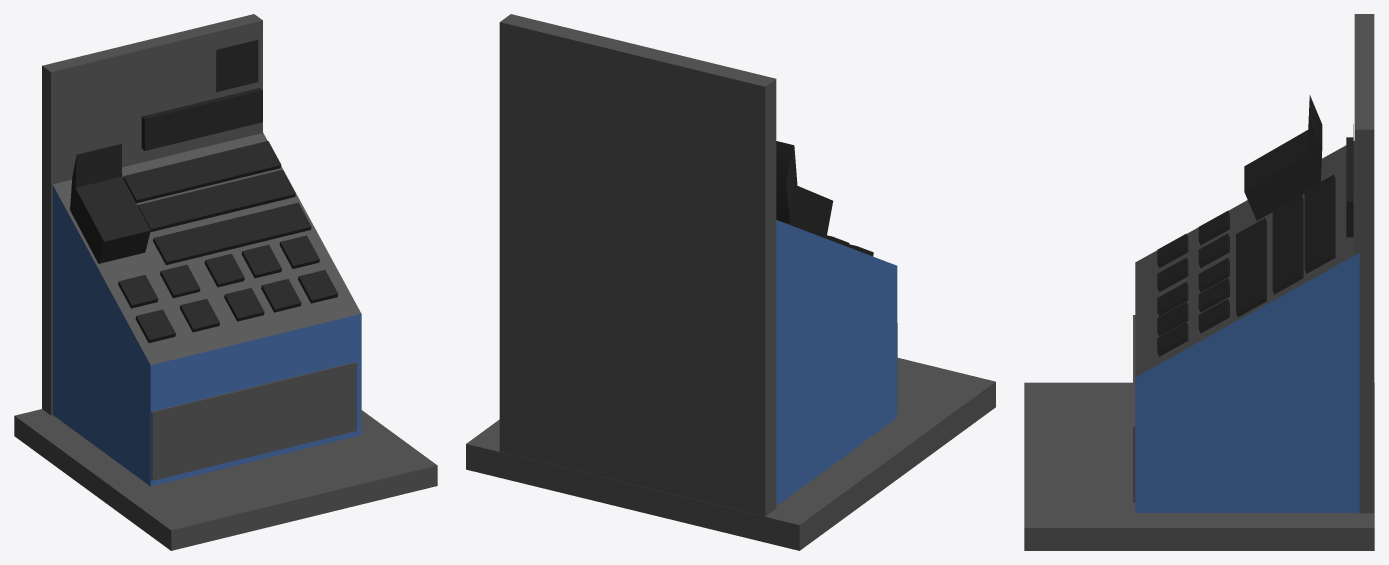
File: Register.fbx
3 views of the same model, side by side, from view 1: azimuth 30°, elevation 25°; view 2: azimuth 150°, elevation 25°; view 3: azimuth 270°, elevation 25° (orthographic). The views are drawn at different scales.
Visible parts, largest first — view 1: register:polySurface41; view 2: register:polySurface41; view 3: register:polySurface41.
Boxes of the visible parts, <box> form: register:polySurface41: <box>14,14,437,550</box>; register:polySurface41: <box>466,14,995,550</box>; register:polySurface41: <box>1024,14,1374,550</box>.
Size of the model in its own units: 0.9183 by 1.2 by 0.9358.
